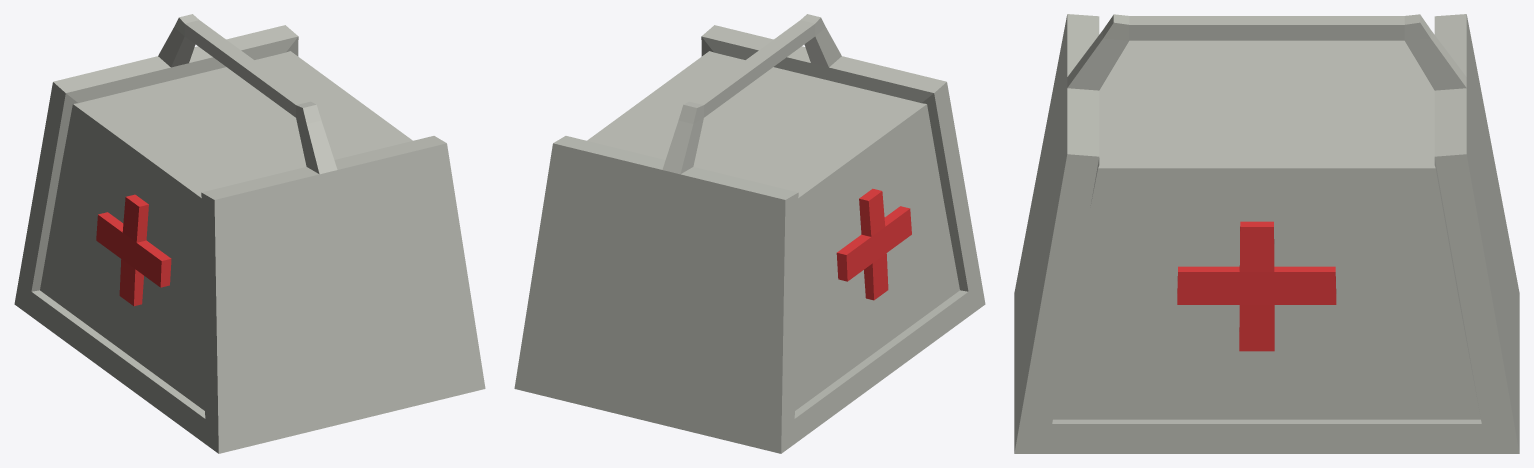
File: Botiquin.fbx
The picture shows the model from 3 angles, left to right: view 1: azimuth 30°, elevation 25°; view 2: azimuth 150°, elevation 25°; view 3: azimuth 270°, elevation 25°; orthographic projection. The views are drawn at different scales.
Visible parts, largest first — view 1: Cube; view 2: Cube; view 3: Cube.
Boxes of the visible parts, x1=… form: Cube: x1=14, y1=14, x2=485, y2=453; Cube: x1=514, y1=14, x2=985, y2=453; Cube: x1=1014, y1=14, x2=1519, y2=453.
Size of the model in its own units: 80.51 by 82.53 by 107.
